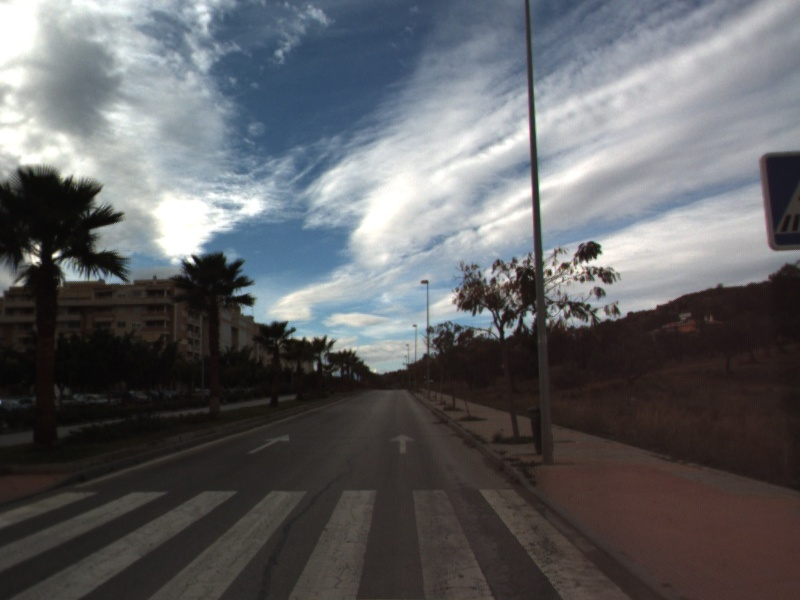STRAIGHT: (246, 432, 291, 456), (388, 431, 418, 455)
